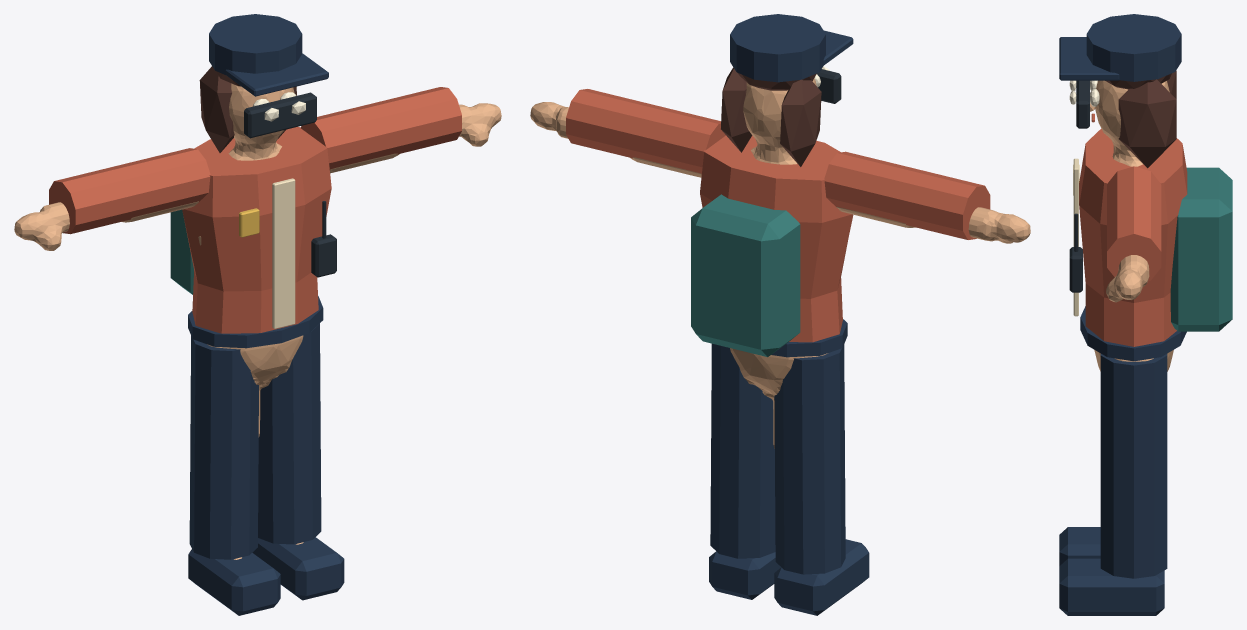
Rendered from Character_Player.fbx.
The picture shows the model from 3 angles, left to right: view 1: azimuth 30°, elevation 25°; view 2: azimuth 150°, elevation 25°; view 3: azimuth 270°, elevation 25°; orthographic projection. The views are drawn at different scales.
Parts seen in each view (by area): view 1: Shirt.012, PantsLeg.022, PantsLeg.023, Sleeve.024, Character_Player_Base_BaseMale_TPose_Body, Sleeve.025, CapCrown.004, Shoe.024, Shoe.025, JacketOpening.002, Belt.012, HairSide.008 (+4 smaller); view 2: Backpack, PantsLeg.022, Shirt.012, PantsLeg.023, Sleeve.024, Sleeve.025, Character_Player_Base_BaseMale_TPose_Body, CapCrown.004, Shoe.024, HairSide.008, Shoe.025, HairSide.009 (+2 smaller); view 3: PantsLeg.023, Shirt.012, Backpack, CapCrown.004, Sleeve.025, Shoe.025, HairSide.009, Character_Player_Base_BaseMale_TPose_Body, Belt.012, CapVisor.004, Shoe.024, Mask (+3 smaller).
Boxes of the visible parts, box(x1,y1,x2,y2) form: Shirt.012: box(182, 126, 331, 333); PantsLeg.022: box(189, 336, 258, 559); PantsLeg.023: box(258, 323, 321, 544); Sleeve.024: box(49, 148, 210, 234); Character_Player_Base_BaseMale_TPose_Body: box(14, 83, 501, 559); Sleeve.025: box(300, 87, 461, 170); CapCrown.004: box(209, 14, 302, 74); Shoe.024: box(188, 549, 280, 615); Shoe.025: box(252, 537, 344, 600); JacketOpening.002: box(272, 178, 295, 328); Belt.012: box(188, 296, 323, 348); HairSide.008: box(199, 66, 234, 152); Backpack: box(691, 194, 800, 357); PantsLeg.022: box(774, 344, 845, 574); Shirt.012: box(700, 135, 853, 342); PantsLeg.023: box(710, 343, 775, 558); Sleeve.024: box(824, 151, 990, 239); Sleeve.025: box(566, 89, 725, 173); Character_Player_Base_BaseMale_TPose_Body: box(530, 78, 1030, 448); CapCrown.004: box(730, 14, 825, 82); Shoe.024: box(774, 539, 869, 615); HairSide.008: box(780, 79, 821, 166); Shoe.025: box(709, 551, 780, 599); HairSide.009: box(721, 67, 752, 152); PantsLeg.023: box(1100, 353, 1167, 578); Shirt.012: box(1079, 128, 1187, 346); Backpack: box(1170, 167, 1232, 331); CapCrown.004: box(1086, 14, 1181, 81); Sleeve.025: box(1107, 166, 1161, 281); Shoe.025: box(1059, 558, 1164, 615); HairSide.009: box(1118, 79, 1176, 168); Character_Player_Base_BaseMale_TPose_Body: box(1094, 80, 1173, 371); Belt.012: box(1080, 306, 1186, 361); CapVisor.004: box(1059, 37, 1119, 80); Shoe.024: box(1059, 527, 1100, 565); Mask: box(1076, 80, 1089, 128).
Size of the model in its own units: 1.68 by 1.82 by 0.51.
